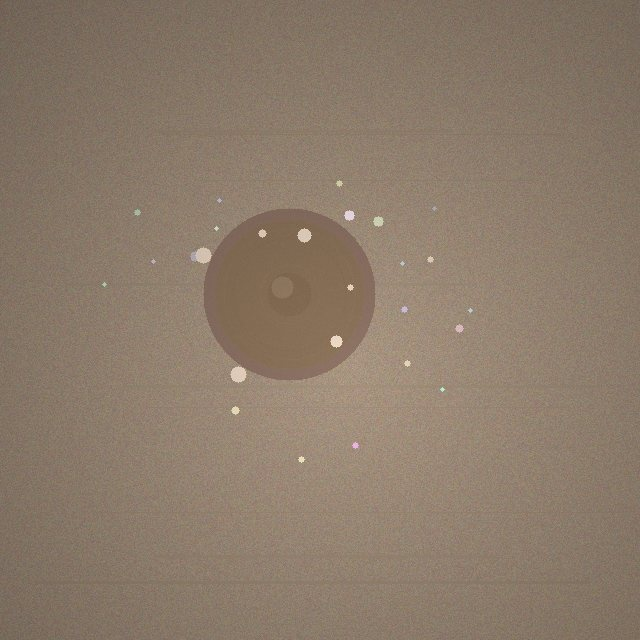overburn: (203, 208, 375, 380)
